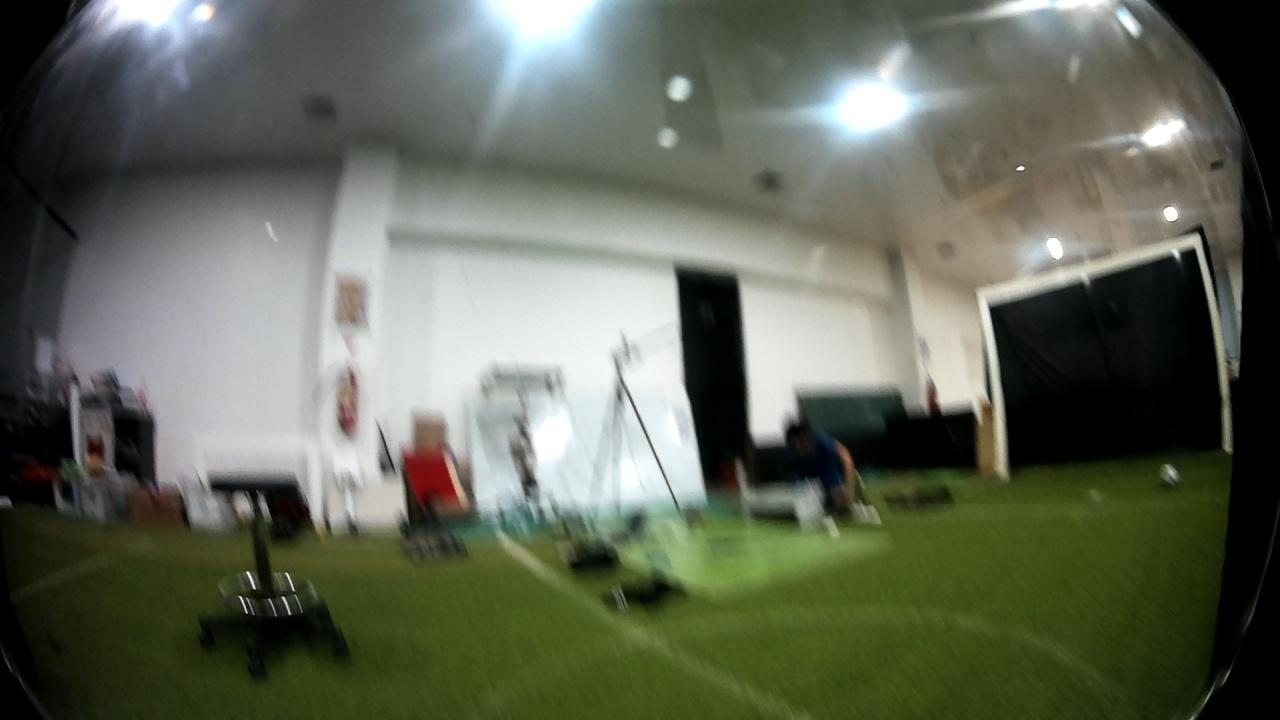ball: (1152, 457, 1183, 498)
